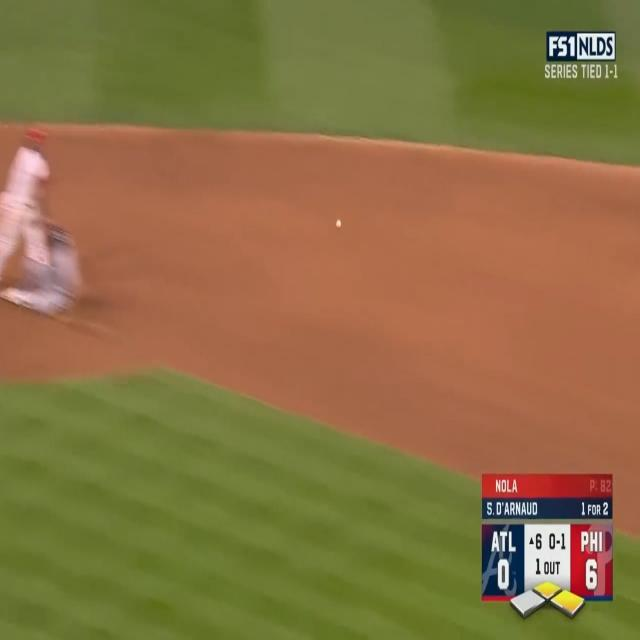baseball: (336, 218, 342, 230)
